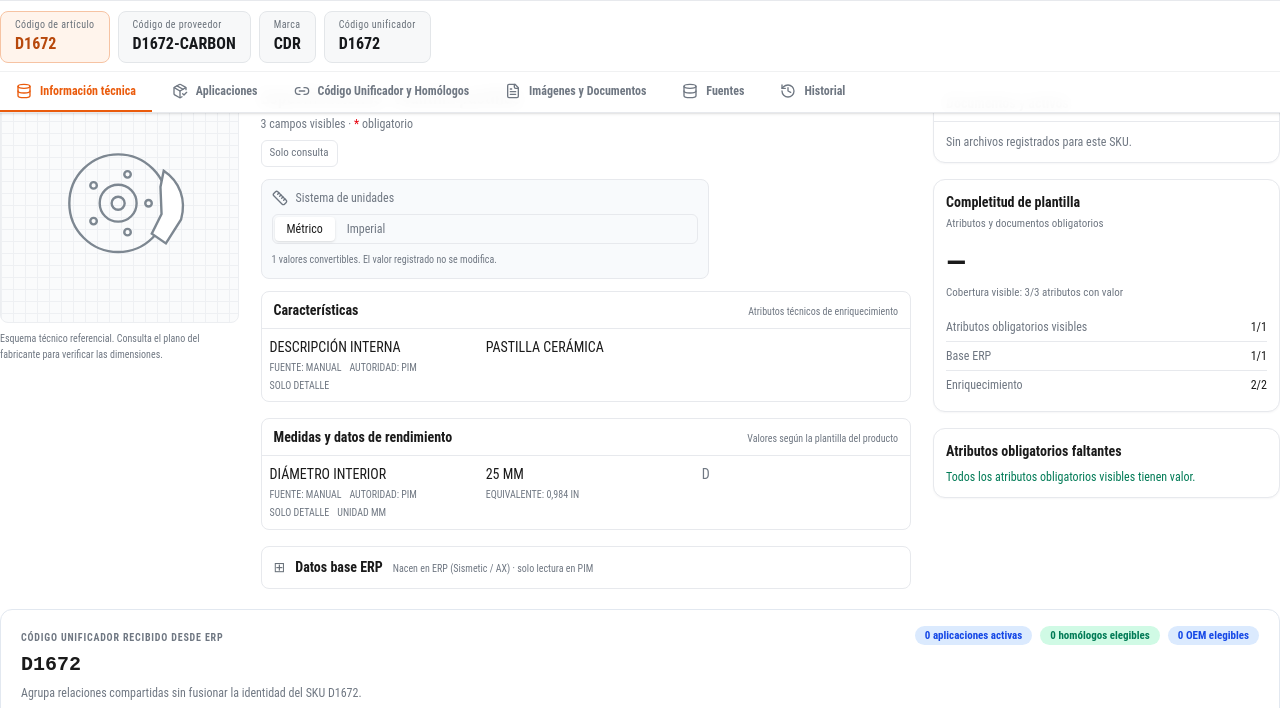
Test: ProductDetailView operational data › keeps name, value and abbreviation in order and folds ERP last for {"showCompleteness":true,"showProductStatus":true}
This screenshot has width=1280, height=708.
(page scrolled)
Click the heading "Datos base ERP" at point(339, 567), box [295, 557, 383, 577]
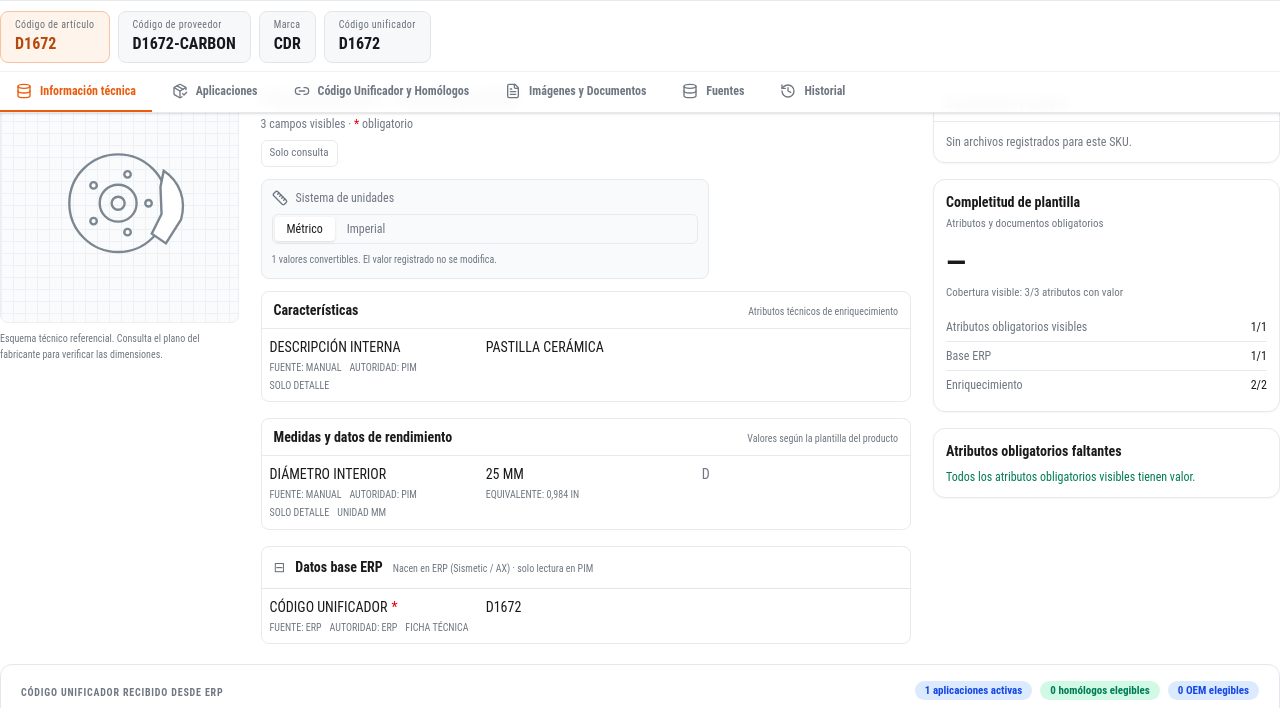
Expected: the table that starts with "Atributo y origen" is shown, [262, 589, 910, 643]
